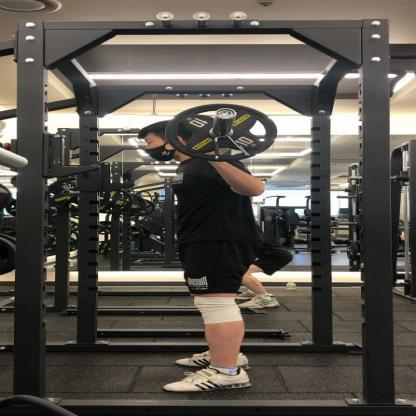Barbell: (215, 108, 240, 123)
